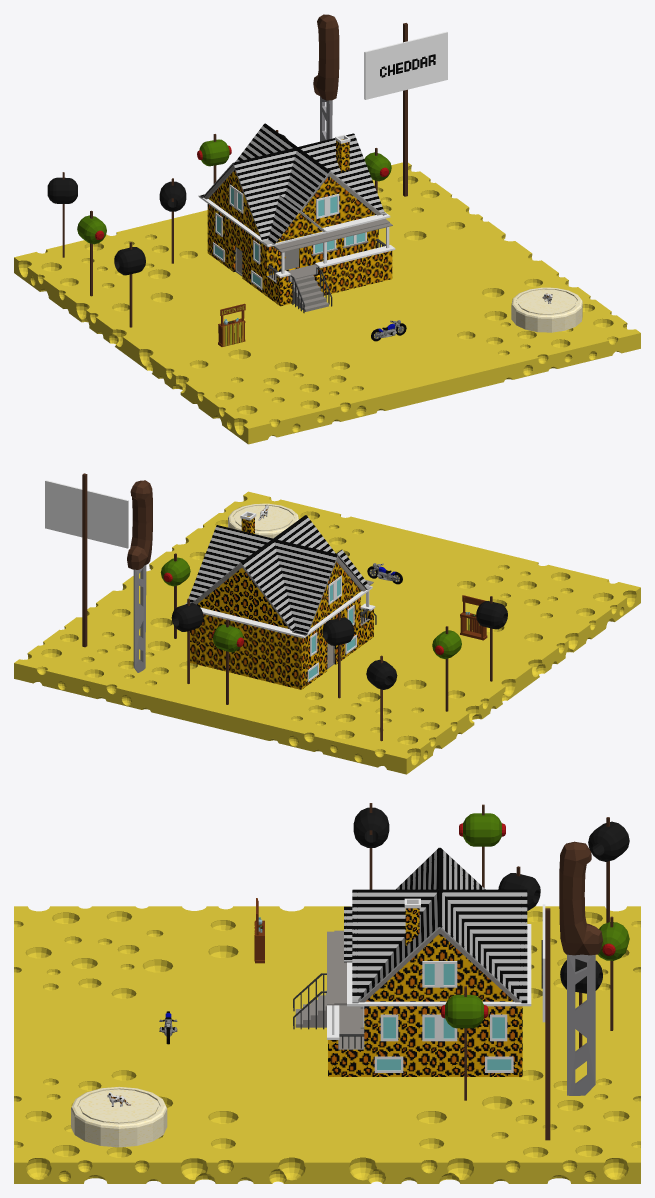
The picture shows the model from 3 angles, top to bottom: view 1: azimuth 30°, elevation 25°; view 2: azimuth 150°, elevation 25°; view 3: azimuth 270°, elevation 25°; orthographic projection. The views are drawn at different scales.
Visible parts, largest first — view 1: Cube.022, Cube.637, Cube.023, Cylinder.016, Cube.024, Sphere.017, OBJRANDOM_LEMONADE_STAND, Sphere.016, Sphere.020, Sphere.018, Sphere.022, Sphere.019; view 2: Cube.022, Cube.637, Cube.023, Cube.024, Cylinder.016, Sphere.017, Sphere.020, Sphere.021, Sphere.016, Sphere.018, Sphere.022, Sphere.019 (+2 smaller); view 3: Cube.022, Cube.637, Cube.024, Cylinder.016, Cube.023, Sphere.019, Sphere.016, Sphere.018, Sphere.017, Sphere.022, Sphere.020, Sphere.021 (+1 smaller).
Boxes of the visible parts, x1,y1,x2,y2 form: Cube.022: (14, 162, 640, 444); Cube.637: (198, 123, 395, 313); Cube.023: (364, 23, 447, 196); Cylinder.016: (511, 287, 582, 332); Cube.024: (313, 14, 339, 141); Sphere.017: (114, 242, 145, 327); OBJRANDOM_LEMONADE_STAND: (218, 303, 245, 346); Sphere.016: (47, 172, 77, 257); Sphere.020: (159, 178, 186, 263); Sphere.018: (77, 210, 106, 296); Sphere.022: (197, 134, 231, 183); Sphere.019: (364, 148, 391, 192); Cube.022: (14, 491, 640, 774); Cube.637: (185, 511, 376, 689); Cube.023: (45, 473, 128, 647); Cube.024: (127, 480, 152, 672); Cylinder.016: (228, 503, 298, 538); Sphere.017: (476, 596, 507, 681); Sphere.020: (322, 612, 354, 698); Sphere.021: (171, 598, 203, 683); Sphere.016: (366, 655, 397, 741); Sphere.018: (432, 626, 461, 711); Sphere.022: (212, 619, 244, 704); Sphere.019: (160, 553, 190, 638); Cube.022: (14, 906, 640, 1183); Cube.637: (293, 847, 531, 1076); Cube.024: (559, 841, 602, 1095); Cylinder.016: (71, 1086, 167, 1147); Cube.023: (541, 904, 550, 1140); Sphere.019: (441, 986, 487, 1100); Sphere.016: (588, 817, 629, 922); Sphere.018: (459, 804, 505, 887); Sphere.017: (353, 803, 389, 889); Sphere.022: (598, 916, 629, 1030); Sphere.020: (498, 866, 540, 910); Sphere.021: (560, 959, 602, 1048).
Size of the model in its own units: 3917 by 2023 by 4000.
Materials: 37 (4 with a texture image).
